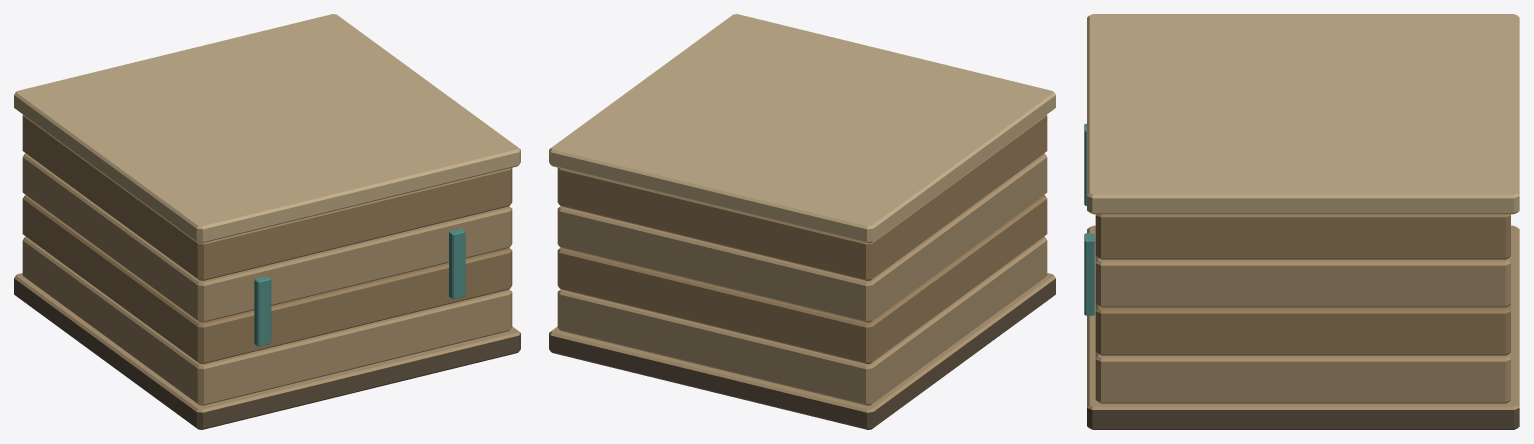
The model's file is platform.glb.
3 renders of one model, left to right at view 1: azimuth 30°, elevation 25°; view 2: azimuth 150°, elevation 25°; view 3: azimuth 270°, elevation 25°, orthographic. The views are drawn at different scales.
Visible parts, largest first — view 1: platform__body; view 2: platform__body; view 3: platform__body.
Boxes of the visible parts, x1,y1,x2,y2 form: platform__body: (14,14,520,429); platform__body: (549,14,1055,429); platform__body: (1084,14,1519,429).
Size of the model in its own units: 2 by 1.2 by 2.01.
